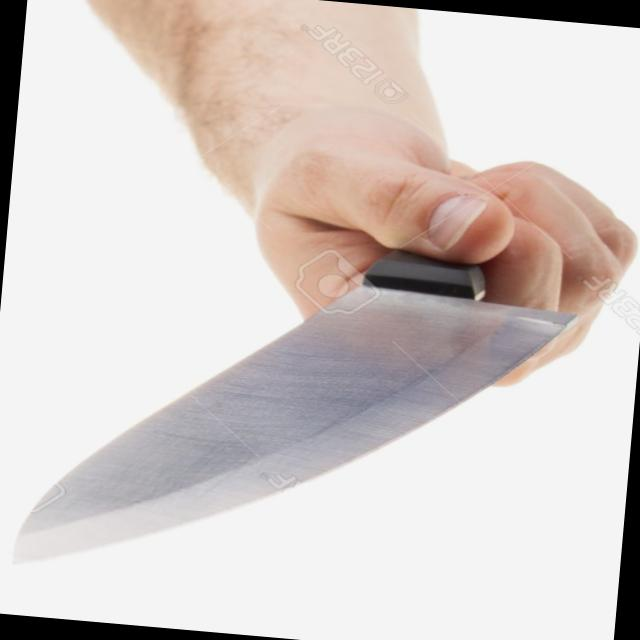knife: (0, 132, 619, 627)
